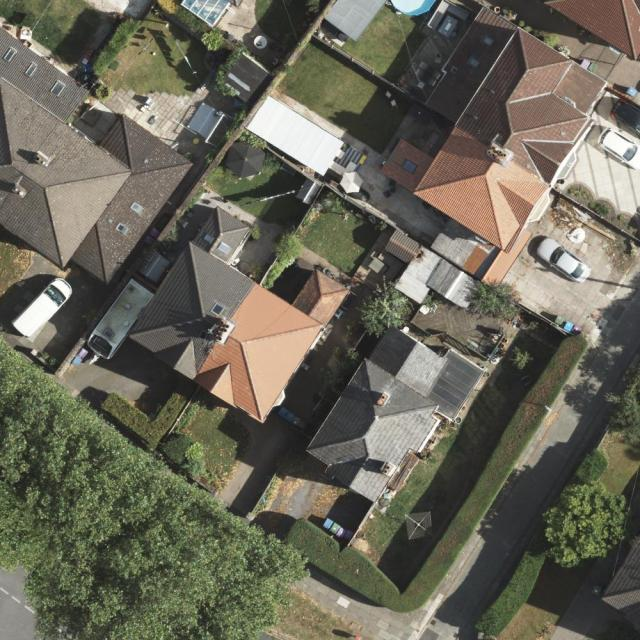roof: (380, 6, 610, 257), (0, 29, 202, 290), (129, 204, 352, 424), (306, 321, 486, 506), (543, 0, 640, 59), (599, 532, 640, 630)
skylight: (180, 0, 229, 26), (47, 79, 68, 100), (208, 300, 228, 320), (24, 60, 39, 79), (3, 47, 19, 64), (115, 220, 130, 237), (217, 241, 233, 256), (402, 159, 418, 174), (130, 202, 146, 215), (466, 57, 481, 69), (198, 328, 209, 342), (482, 34, 495, 45), (205, 233, 216, 244)
